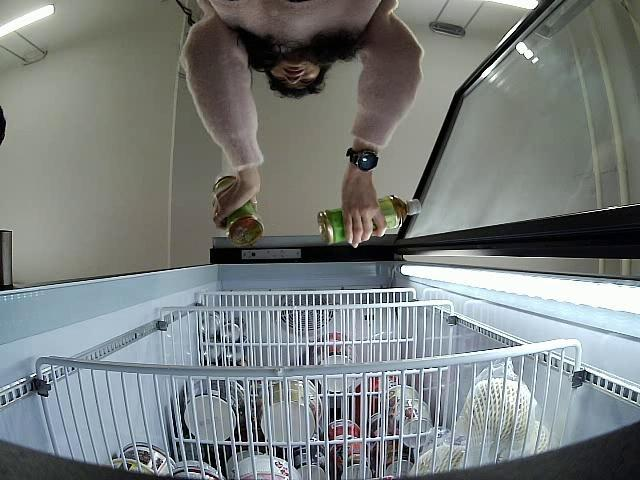19_17cha: (319, 196, 422, 244), (214, 173, 264, 248)
